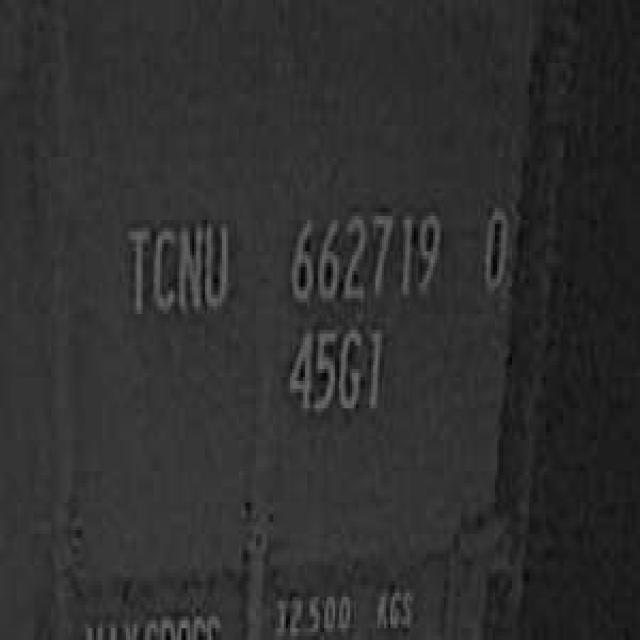dv: (478, 196, 514, 298)
owner: (121, 208, 232, 326)
serial: (284, 197, 442, 310)
size: (280, 318, 386, 428)
